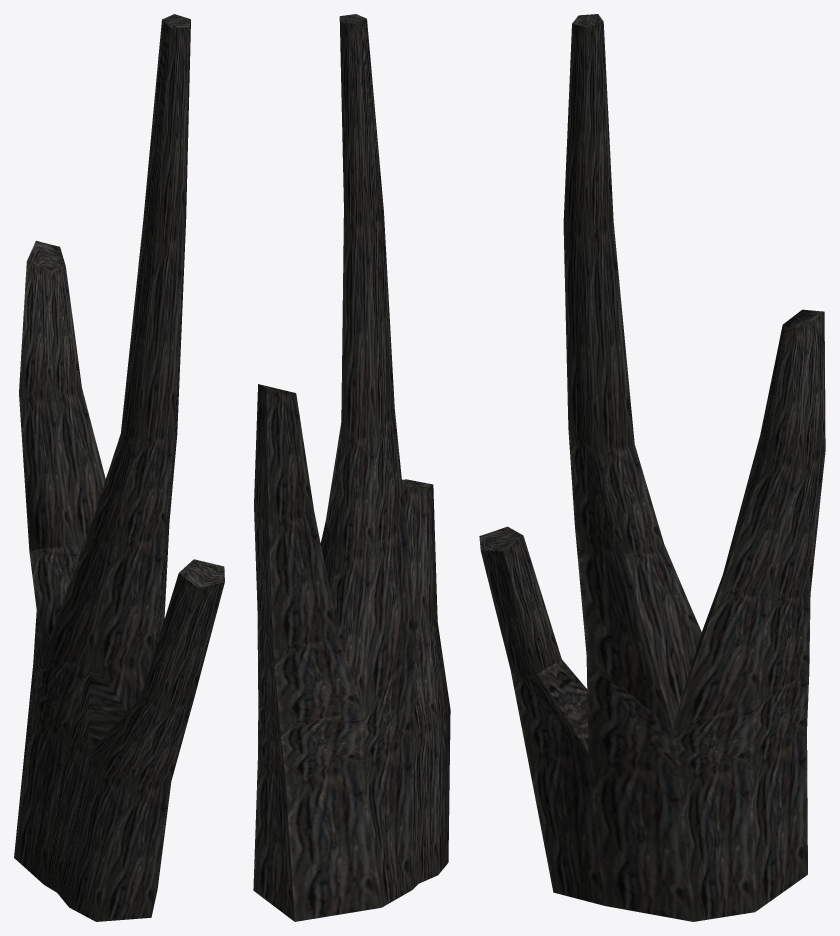
The model's file is burnt_tree_tri.fbx.
3 renders of one model, left to right at view 1: azimuth 30°, elevation 25°; view 2: azimuth 150°, elevation 25°; view 3: azimuth 270°, elevation 25°, orthographic. The views are drawn at different scales.
Visible parts, largest first — view 1: lod_high; view 2: lod_high; view 3: lod_high.
Boxes of the visible parts, box(x1,y1,x2,y2) form: lod_high: box(14, 14, 224, 921); lod_high: box(253, 14, 450, 921); lod_high: box(479, 14, 825, 921).
Bounding box in the file's own units: 326 × 2124 × 745.
Materials: 1 (1 with a texture image).
